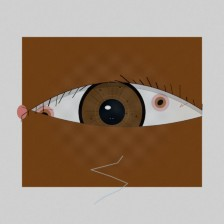foreign_body_visible: (35, 115, 70, 143)
